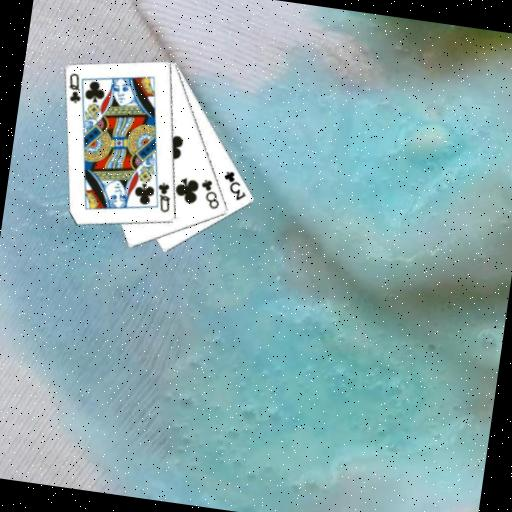3C: (218, 167, 251, 203)
8C: (196, 176, 225, 212)
QC: (152, 179, 175, 215), (63, 70, 86, 106)
